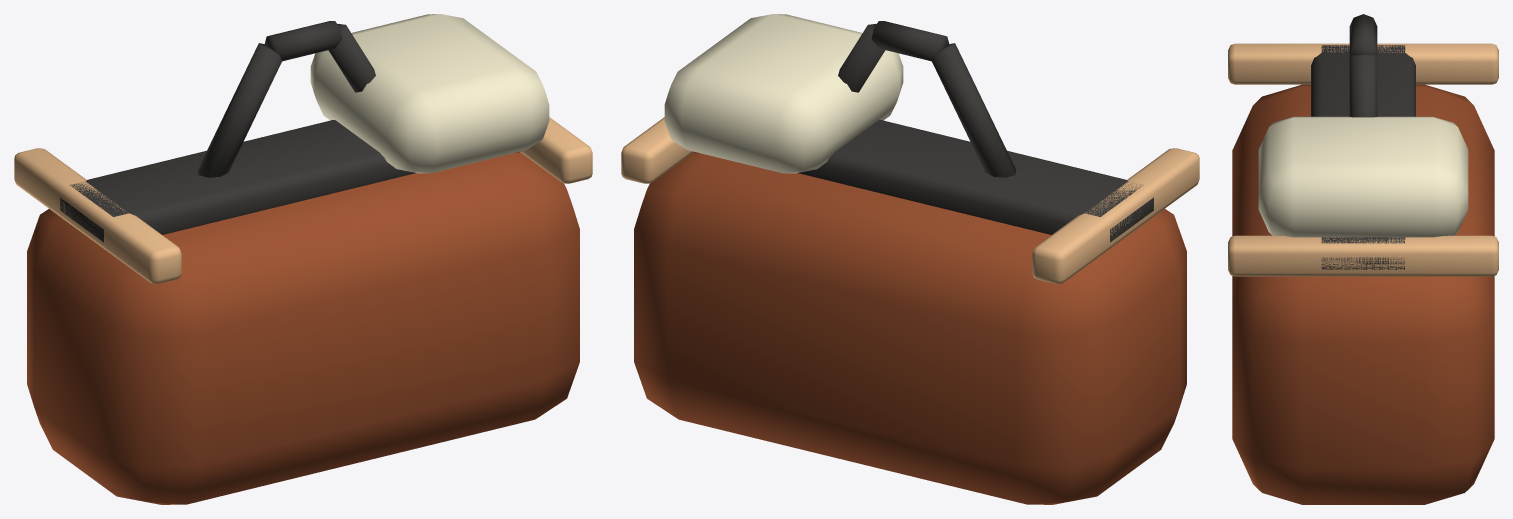
Rendered from midbag.glb.
3 views of the same model, side by side, from view 1: azimuth 30°, elevation 25°; view 2: azimuth 150°, elevation 25°; view 3: azimuth 270°, elevation 25° (orthographic). The views are drawn at different scales.
Visible parts, largest first — view 1: bag, towel, mouth, clasp, handle1, clasp.001, handle3, handle2; view 2: bag, towel, mouth, clasp, handle1, clasp.001, handle3, handle2; view 3: bag, towel, clasp.001, clasp, mouth, handle2, handle3.
Part boxes in pixels (box(x1,y1,x2,y2)): bag: box(27, 152, 579, 504); towel: box(310, 14, 549, 173); mouth: box(60, 120, 520, 242); clasp: box(14, 148, 181, 283); handle1: box(197, 43, 281, 177); clasp.001: box(520, 117, 592, 183); handle3: box(264, 21, 342, 61); handle2: box(328, 24, 375, 92); bag: box(634, 152, 1186, 504); towel: box(664, 14, 903, 173); mouth: box(693, 120, 1153, 242); clasp: box(1032, 148, 1199, 283); handle1: box(932, 43, 1016, 177); clasp.001: box(621, 117, 693, 183); handle3: box(871, 21, 949, 61); handle2: box(838, 24, 885, 92); bag: box(1232, 84, 1494, 504); towel: box(1258, 116, 1468, 237); clasp.001: box(1228, 235, 1498, 276); clasp: box(1228, 43, 1498, 84); mouth: box(1311, 45, 1415, 269); handle2: box(1349, 55, 1377, 117); handle3: box(1349, 14, 1377, 55).
Bounding box in the file's own units: 0.3 × 0.248 × 0.155.
